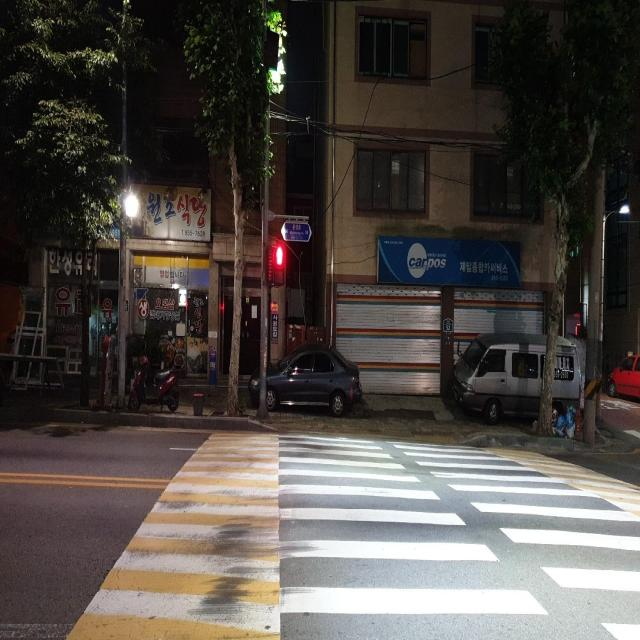빨간불: (267, 242, 285, 287)
횡단보도: (277, 435, 640, 640)
